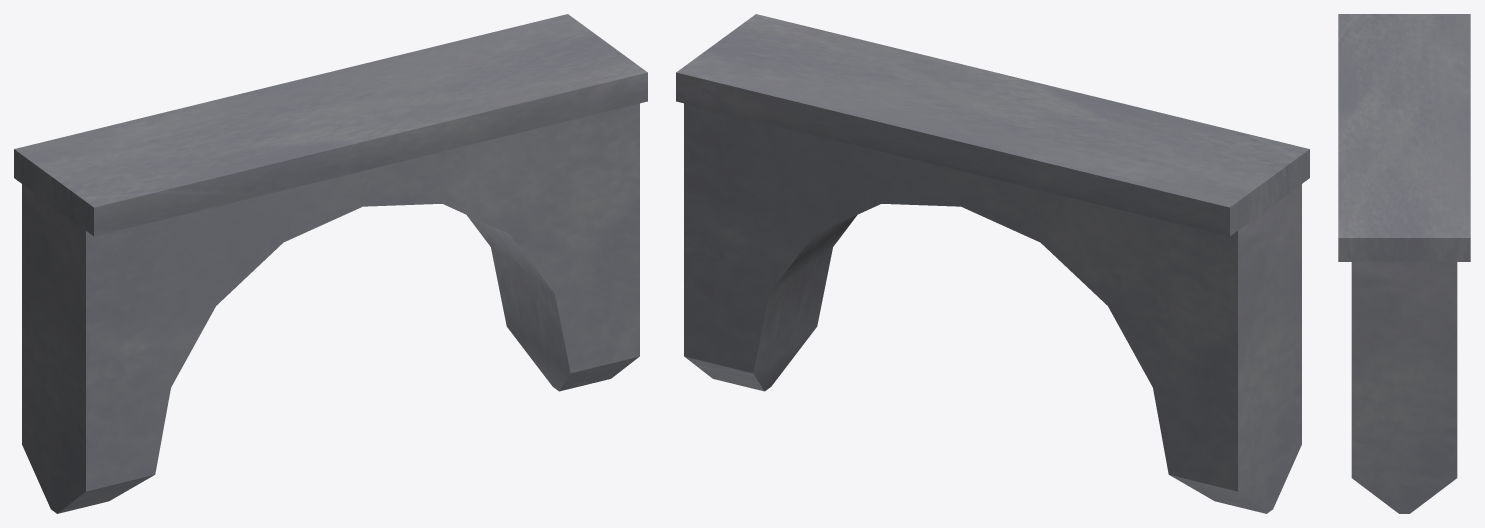
File: Fence.001.fbx
3 renders of one model, left to right at view 1: azimuth 30°, elevation 25°; view 2: azimuth 150°, elevation 25°; view 3: azimuth 270°, elevation 25°, orthographic. The views are drawn at different scales.
Parts seen in each view (by area): view 1: Fence.001; view 2: Fence.001; view 3: Fence.001.
Boxes of the visible parts, x1,y1,x2,y2 form: Fence.001: [14, 14, 647, 513]; Fence.001: [676, 14, 1309, 513]; Fence.001: [1338, 14, 1470, 513].
Size of the model in its own units: 200 by 115 by 50.
